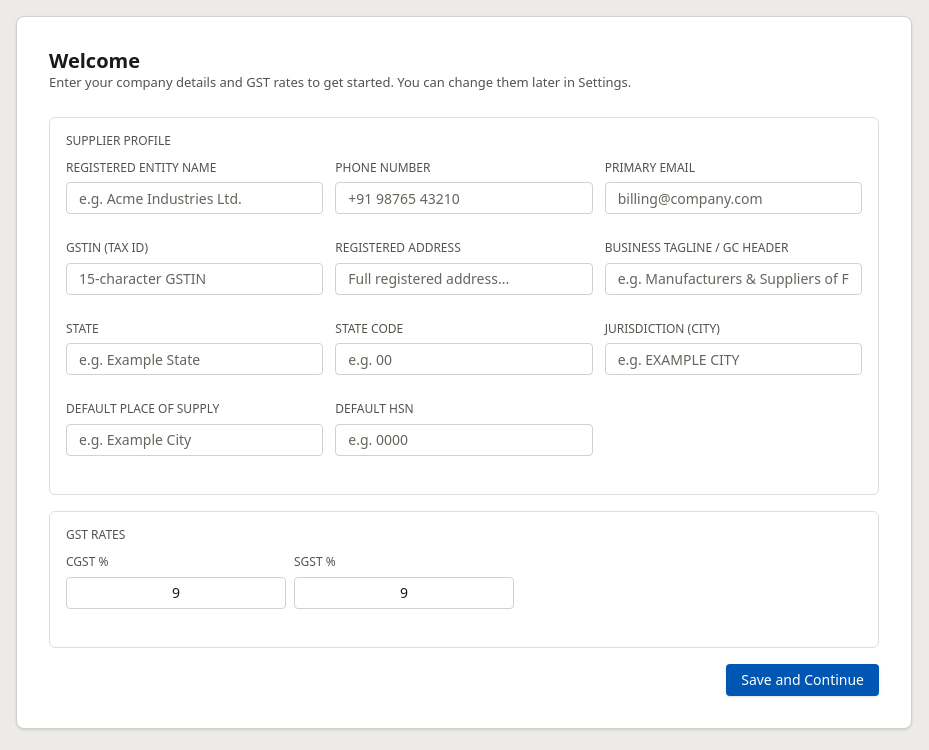
it: onboarding (SPEC-15 PR 2, INV-78) › a rate that is not a number is shown at its field and nothing is sent
This screenshot has width=929, height=750.
Replace the text in the field labelled "CGST %" with "nine" at (176, 593), box top-left (66, 577), bottom-right (286, 609)
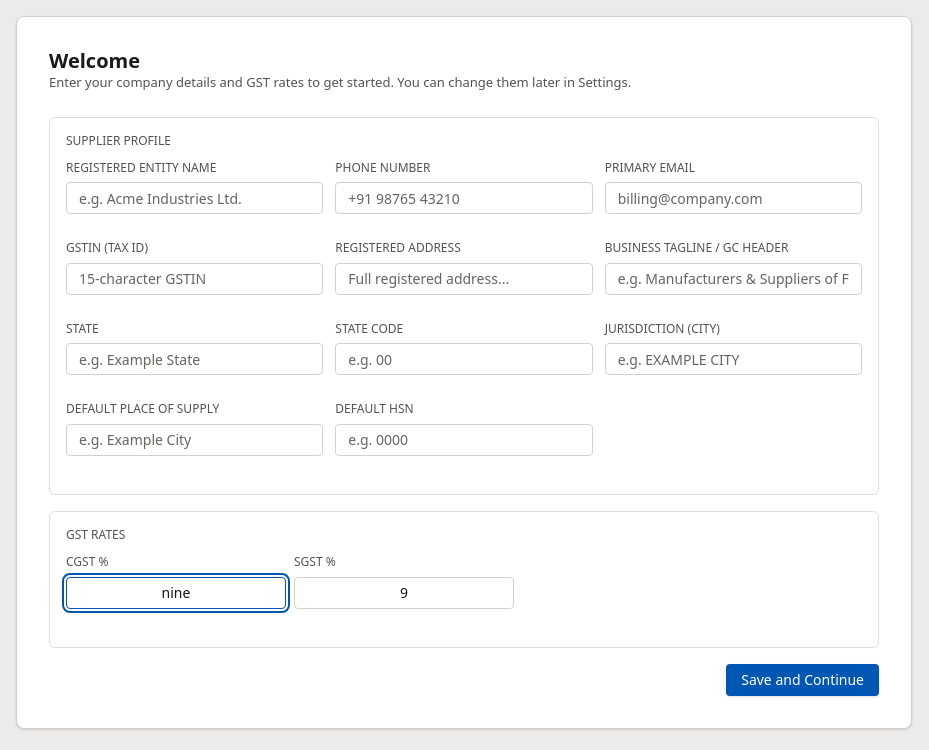
Click the button "Save and Continue".
click(803, 680)  # box top-left (726, 664), bottom-right (879, 696)
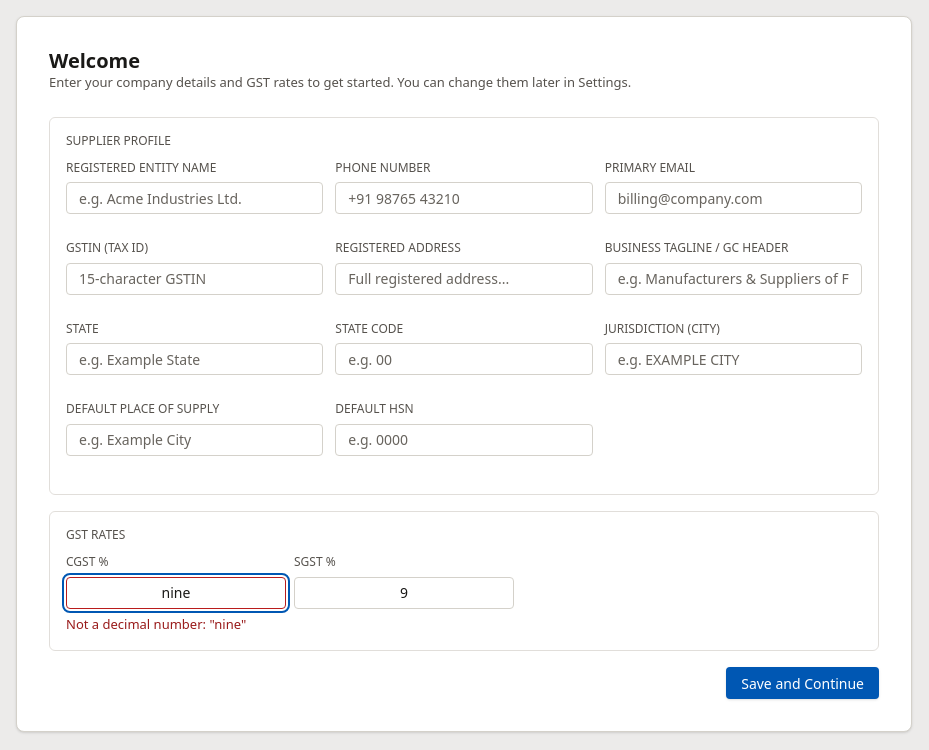
Now the text "Not a decimal number: \"nine\"" is shown, box top-left (66, 615), bottom-right (246, 633)
